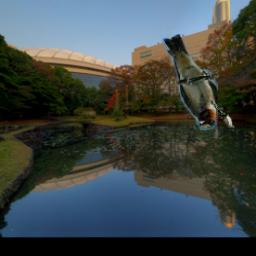Cuckoo: (210, 100, 235, 128)
Swallow: (162, 35, 219, 131)
